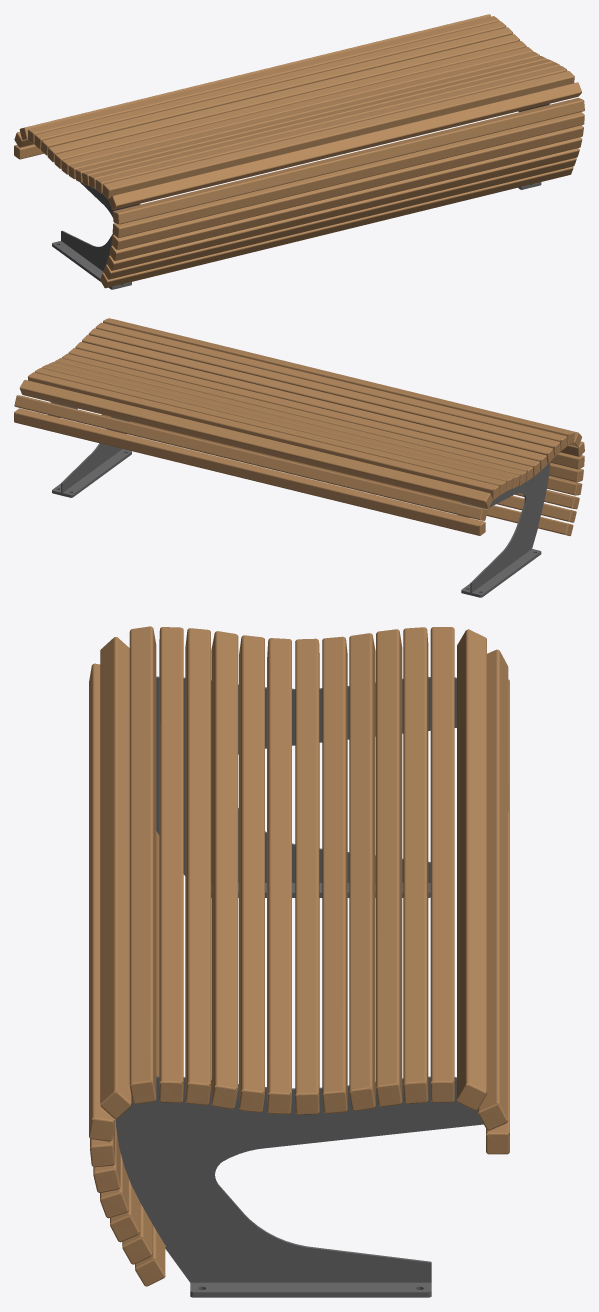
The model's file is Skamya_8.glb.
The picture shows the model from 3 angles, top to bottom: view 1: azimuth 30°, elevation 25°; view 2: azimuth 150°, elevation 25°; view 3: azimuth 270°, elevation 25°; orthographic projection. The views are drawn at different scales.
Parts seen in each view (by area): view 1: Mesh 58360, Mesh 3397, Mesh 1728; view 2: Mesh 58360, Mesh 3397, Mesh 1728; view 3: Mesh 58360, Mesh 3397, Mesh 1728.
Boxes of the visible parts, x1,y1,x2,y2 form: Mesh 58360: [14, 14, 584, 288]; Mesh 3397: [61, 103, 549, 284]; Mesh 1728: [52, 182, 541, 289]; Mesh 58360: [14, 318, 584, 535]; Mesh 3397: [48, 402, 550, 592]; Mesh 1728: [52, 449, 541, 597]; Mesh 58360: [89, 626, 509, 1286]; Mesh 3397: [115, 676, 483, 1282]; Mesh 1728: [190, 883, 431, 1297].
Bounding box in the file's own units: 1.8 × 0.4321 × 0.7038.
